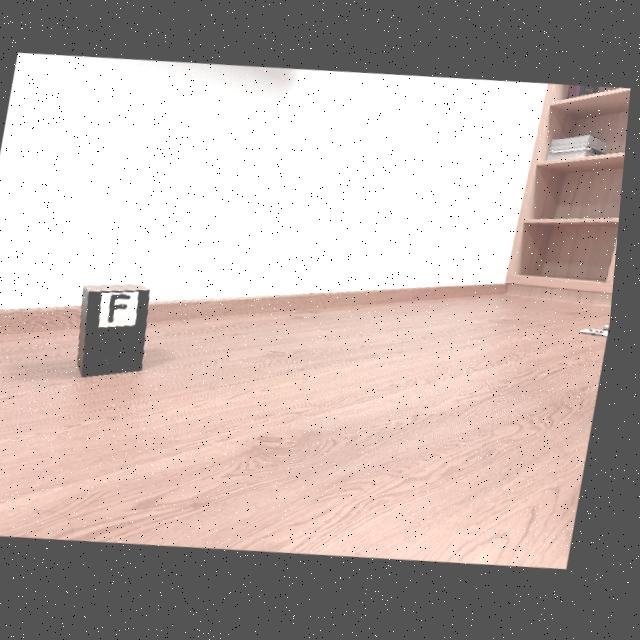F: (113, 295, 136, 324)
